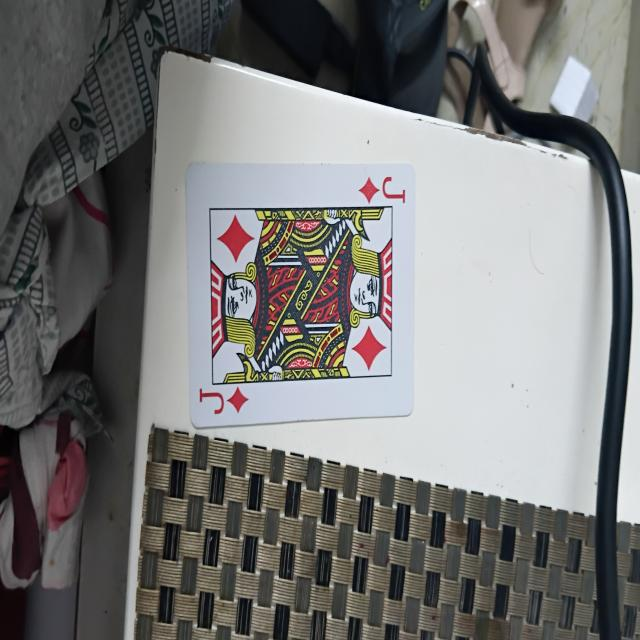JD: (185, 159, 413, 437)
